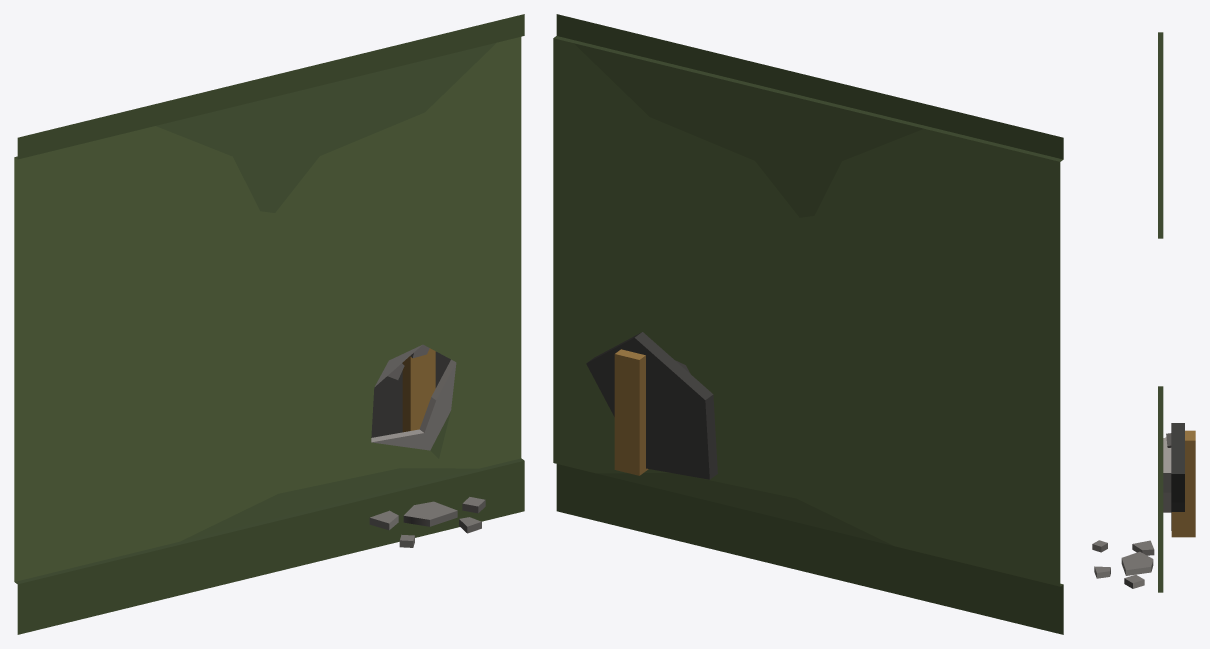
The model's file is AI_Env_Wall_Green_Hole_Small.fbx.
3 renders of one model, left to right at view 1: azimuth 30°, elevation 25°; view 2: azimuth 150°, elevation 25°; view 3: azimuth 270°, elevation 25°, orthographic. The views are drawn at different scales.
Visible parts, largest first — view 1: AI_Env_Wall_Green_Hole_Small; view 2: AI_Env_Wall_Green_Hole_Small; view 3: AI_Env_Wall_Green_Hole_Small.
Boxes of the visible parts, x1=… form: AI_Env_Wall_Green_Hole_Small: x1=14, y1=14, x2=524, y2=634; AI_Env_Wall_Green_Hole_Small: x1=553, y1=14, x2=1063, y2=634; AI_Env_Wall_Green_Hole_Small: x1=1092, y1=32, x2=1195, y2=592.
Size of the model in its own units: 5 by 4.69 by 1.06.
